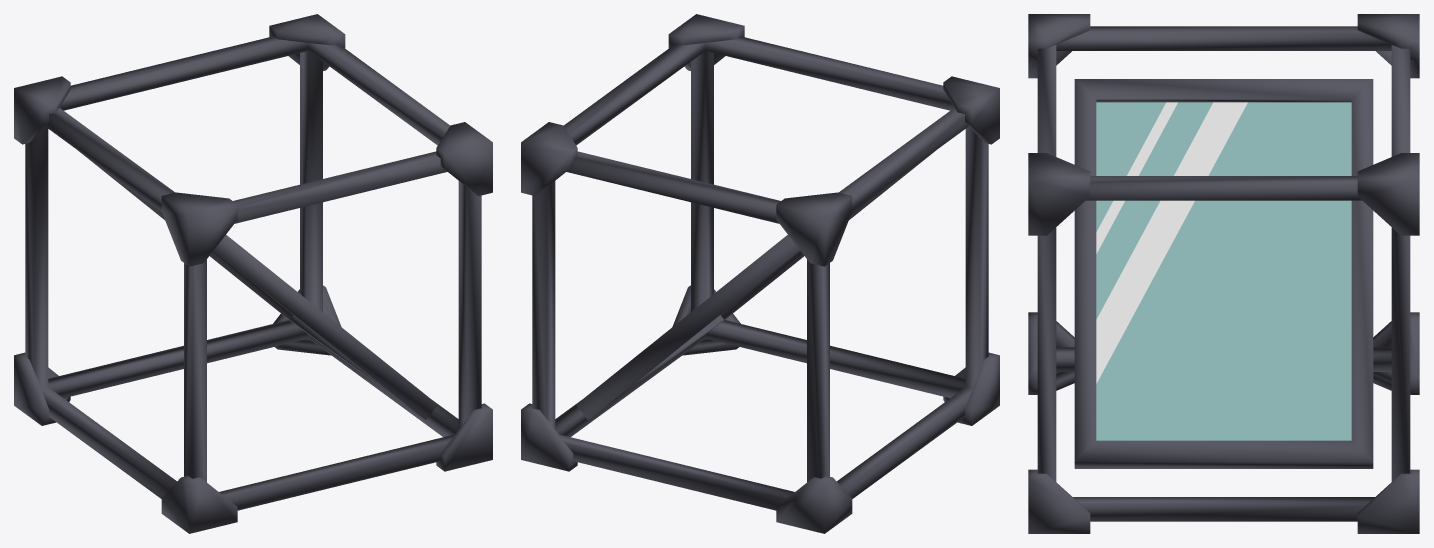
File: mirror.glb
3 renders of one model, left to right at view 1: azimuth 30°, elevation 25°; view 2: azimuth 150°, elevation 25°; view 3: azimuth 270°, elevation 25°, orthographic. The views are drawn at different scales.
Visible parts, largest first — view 1: laser box; view 2: laser box; view 3: laser box.
Part boxes in pixels (bbox=[...]): laser box: bbox=[14, 14, 492, 533]; laser box: bbox=[521, 14, 999, 533]; laser box: bbox=[1028, 14, 1419, 533].
Bounding box in the file's own units: 1 × 1 × 1.
